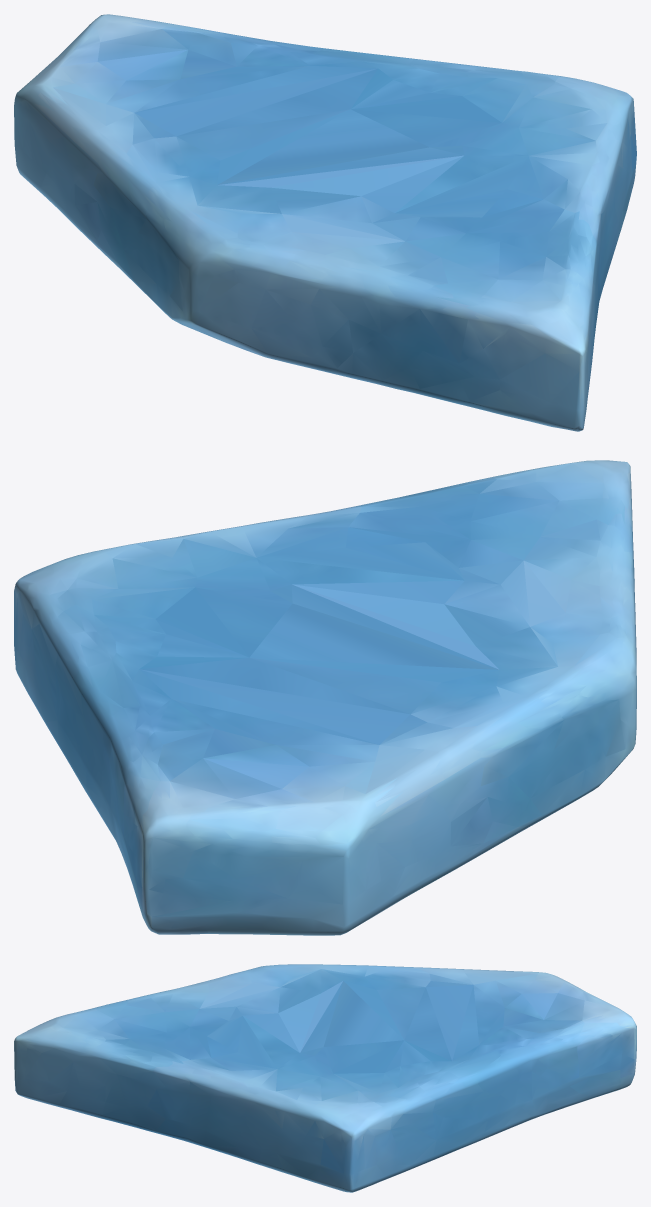
File: placa_hielo_rota_0_2500.glb
3 views of the same model, one above another, from view 1: azimuth 30°, elevation 25°; view 2: azimuth 150°, elevation 25°; view 3: azimuth 270°, elevation 25° (orthographic). The views are drawn at different scales.
Parts seen in each view (by area): view 1: placa_hielo_rota_0_malla; view 2: placa_hielo_rota_0_malla; view 3: placa_hielo_rota_0_malla.
Boxes of the visible parts, x1=… form: placa_hielo_rota_0_malla: x1=14, y1=14, x2=636, y2=431; placa_hielo_rota_0_malla: x1=14, y1=460, x2=636, y2=935; placa_hielo_rota_0_malla: x1=14, y1=964, x2=636, y2=1192.
Bounding box in the file's own units: 0.1313 × 0.0277 × 0.2072.
1 material, 1 textured.
